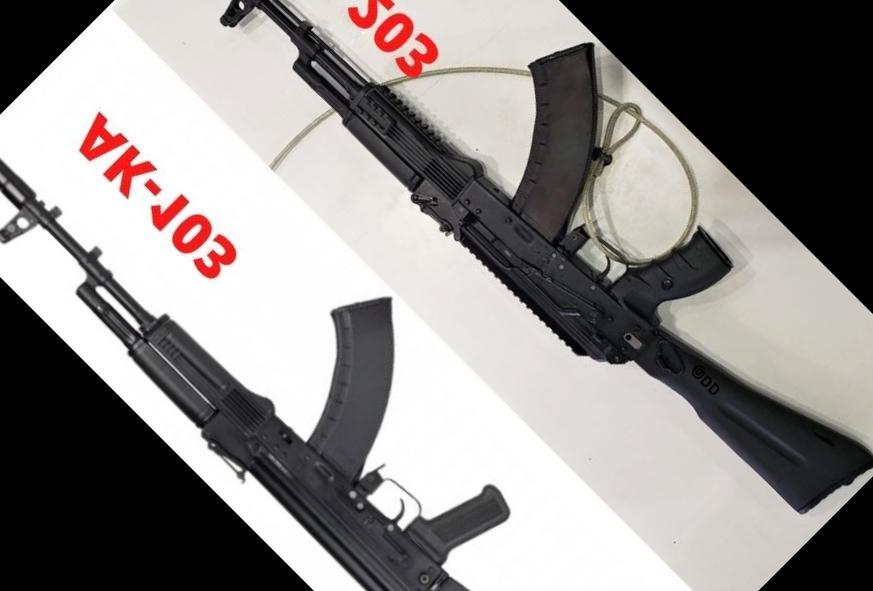larga: (218, 0, 873, 515), (0, 160, 513, 591)
